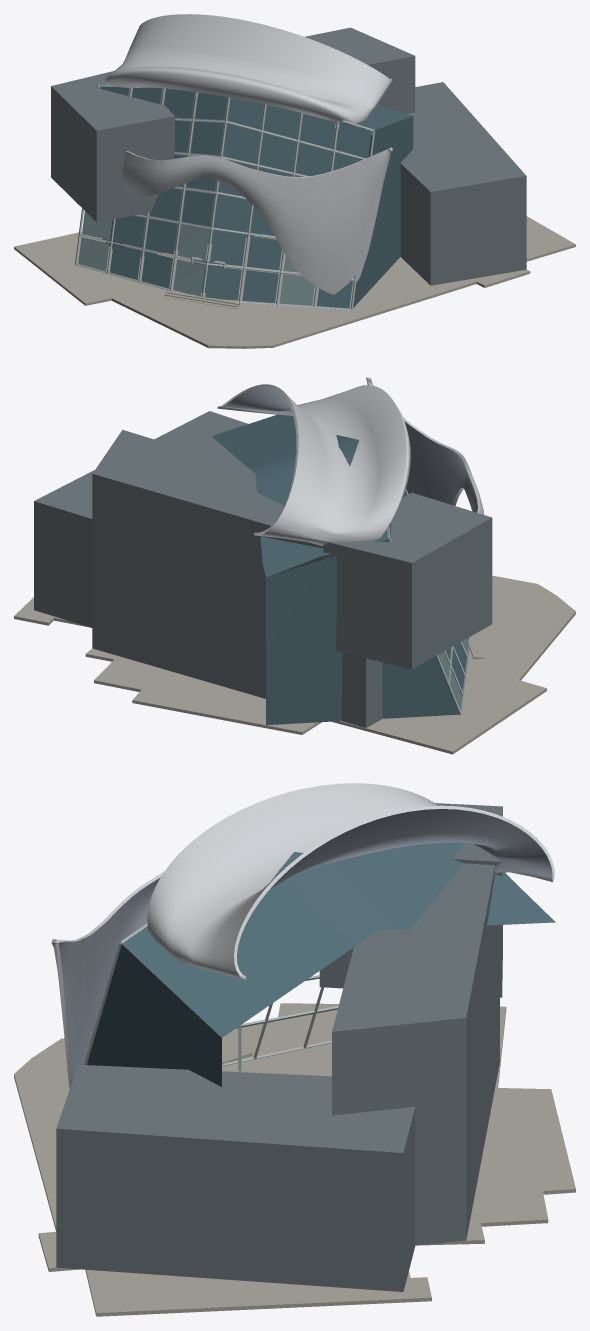
Rendered from art-gallery-of-alberta-far.glb.
The picture shows the model from 3 angles, top to bottom: view 1: azimuth 30°, elevation 25°; view 2: azimuth 150°, elevation 25°; view 3: azimuth 270°, elevation 25°; orthographic projection. The views are drawn at different scales.
Visible parts, largest first — view 1: art-gallery-of-alberta-0-zinc, art-gallery-of-alberta-0-steel, art-gallery-of-alberta-0-glass, art-gallery-of-alberta-0-stone, art-gallery-of-alberta-0-frame, art-gallery-of-alberta-0-glow; view 2: art-gallery-of-alberta-0-zinc, art-gallery-of-alberta-0-glass, art-gallery-of-alberta-0-stone, art-gallery-of-alberta-0-steel, art-gallery-of-alberta-0-steelUnder, art-gallery-of-alberta-0-frame; view 3: art-gallery-of-alberta-0-zinc, art-gallery-of-alberta-0-glass, art-gallery-of-alberta-0-stone, art-gallery-of-alberta-0-steel, art-gallery-of-alberta-0-steelUnder, art-gallery-of-alberta-0-frame.
Part boxes in pixels (x1=…): art-gallery-of-alberta-0-zinc: x1=51, y1=27, x2=526, y2=285; art-gallery-of-alberta-0-steel: x1=105, y1=14, x2=392, y2=294; art-gallery-of-alberta-0-glass: x1=100, y1=84, x2=413, y2=308; art-gallery-of-alberta-0-stone: x1=14, y1=216, x2=575, y2=348; art-gallery-of-alberta-0-frame: x1=75, y1=84, x2=374, y2=310; art-gallery-of-alberta-0-glow: x1=78, y1=211, x2=314, y2=305; art-gallery-of-alberta-0-zinc: x1=34, y1=411, x2=492, y2=727; art-gallery-of-alberta-0-glass: x1=211, y1=414, x2=466, y2=725; art-gallery-of-alberta-0-stone: x1=14, y1=575, x2=575, y2=754; art-gallery-of-alberta-0-steel: x1=217, y1=377, x2=484, y2=546; art-gallery-of-alberta-0-steelUnder: x1=220, y1=380, x2=477, y2=512; art-gallery-of-alberta-0-frame: x1=387, y1=489, x2=470, y2=714; art-gallery-of-alberta-0-zinc: x1=56, y1=803, x2=502, y2=1291; art-gallery-of-alberta-0-glass: x1=87, y1=842, x2=555, y2=1086; art-gallery-of-alberta-0-stone: x1=14, y1=1003, x2=575, y2=1316; art-gallery-of-alberta-0-steel: x1=51, y1=783, x2=554, y2=1088; art-gallery-of-alberta-0-steelUnder: x1=51, y1=809, x2=552, y2=1081; art-gallery-of-alberta-0-frame: x1=84, y1=923, x2=338, y2=1071.
Size of the model in its own units: 63.62 by 31 by 48.75.
